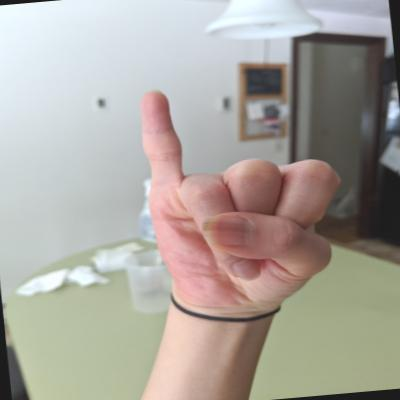hand: (127, 70, 360, 330)
